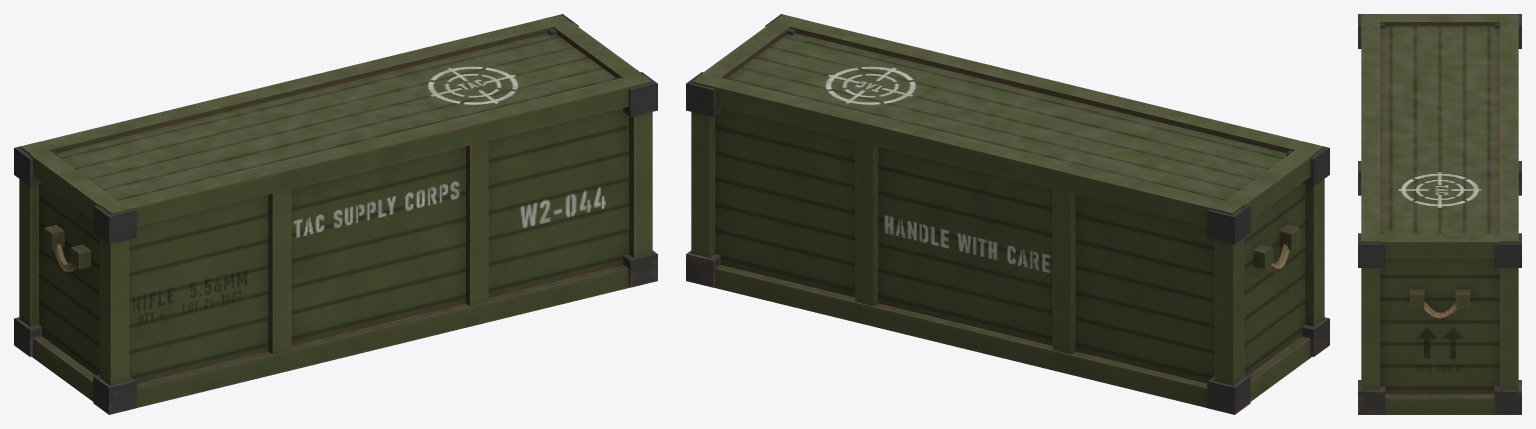
The model's file is W2_LongCrate.fbx.
3 views of the same model, side by side, from view 1: azimuth 30°, elevation 25°; view 2: azimuth 150°, elevation 25°; view 3: azimuth 270°, elevation 25° (orthographic). The views are drawn at different scales.
Parts seen in each view (by area): view 1: W2_LongCrate; view 2: W2_LongCrate; view 3: W2_LongCrate.
Boxes of the visible parts, x1=… form: W2_LongCrate: x1=14, y1=14, x2=657, y2=414; W2_LongCrate: x1=686, y1=14, x2=1329, y2=414; W2_LongCrate: x1=1358, y1=14, x2=1521, y2=414.
Bounding box in the file's own units: 1000 × 350 × 300.
1 material, 1 textured.
